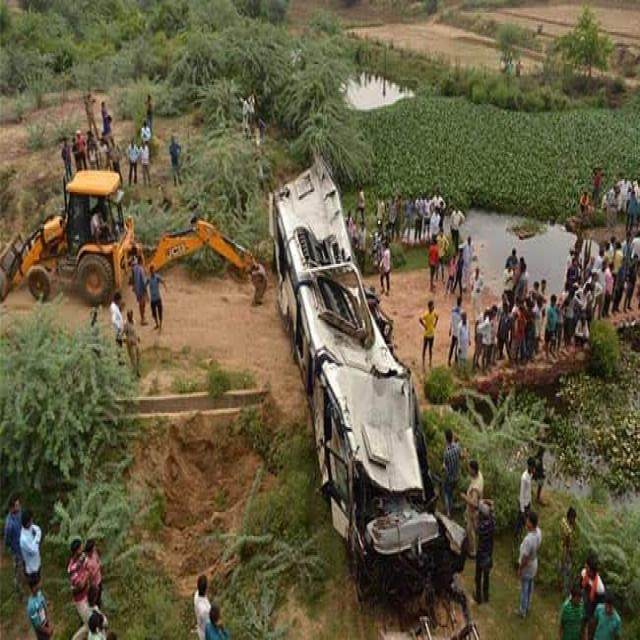accident: (270, 160, 465, 588)
truck: (0, 171, 254, 304)
